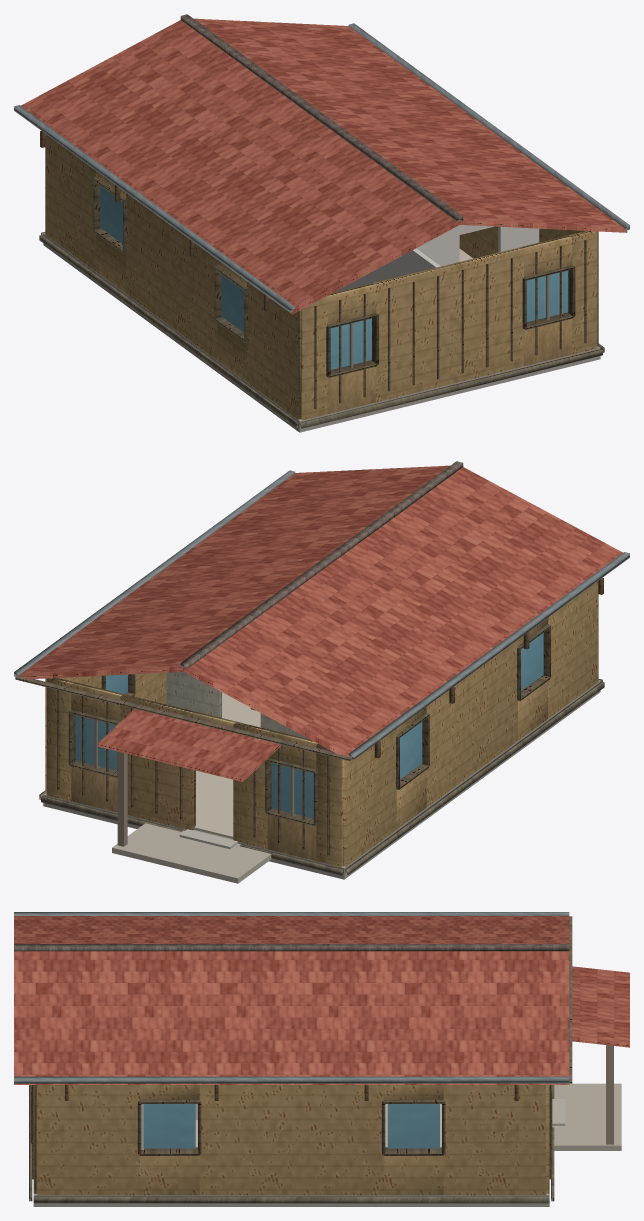
The model's file is HAB_189_Z2_R14_ALBEDO_OTIM_CANDIDATO.gltf.
The picture shows the model from 3 angles, top to bottom: view 1: azimuth 30°, elevation 25°; view 2: azimuth 150°, elevation 25°; view 3: azimuth 270°, elevation 25°; orthographic projection.
Parts seen in each view (by area): view 1: HAB_189_COBERTURA_AGUA_O, HAB_189_COBERTURA_AGUA_L, HAB_189_FACHADA_FUNDOS_PAREDE_1, HAB_189_LATERAL_O_PAREDE_1, HAB_189_LATERAL_O_PAREDE_FINAL, HAB_189_LATERAL_O_PAREDE_0, HAB_189_REV26_ARREMATE_EMBASAMENTO, HAB_189_FUNDACAO, HAB_189_COBERTURA_CUMEEIRA, HAB_189_FACHADA_FUNDOS_PAREDE_0, HAB_189_COBERTURA_CALHA_O, HAB_189_FACHADA_FUNDOS_PAREDE_FINAL (+15 smaller); view 2: HAB_189_COBERTURA_AGUA_O, HAB_189_COBERTURA_AGUA_L, HAB_189_LATERAL_O_PAREDE_1, HAB_189_VARANDA_COBERTURA, HAB_189_LATERAL_O_PAREDE_0, HAB_189_LATERAL_O_PAREDE_FINAL, HAB_189_VARANDA_PLATAFORMA, HAB_189_FACHADA_FRONTAL_PAREDE_2, HAB_189_REV26_ARREMATE_EMBASAMENTO, HAB_189_COBERTURA_CUMEEIRA, HAB_189_PISO_INTERNO, HAB_189_COBERTURA_CALHA_O (+19 smaller); view 3: HAB_189_COBERTURA_AGUA_L, HAB_189_LATERAL_L_PAREDE_1, HAB_189_COBERTURA_AGUA_O, HAB_189_LATERAL_L_PAREDE_FINAL, HAB_189_LATERAL_L_PAREDE_0, HAB_189_REV26_ARREMATE_EMBASAMENTO, HAB_189_COBERTURA_CUMEEIRA, HAB_189_COBERTURA_CALHA_L, HAB_189_VARANDA_COBERTURA, HAB_189_VARANDA_PLATAFORMA, HAB_189_FUNDACAO, HAB_189_LATERAL_L_PEITORIL_0 (+12 smaller).
Part boxes in pixels (box(x1,y1,x2,y2)): HAB_189_COBERTURA_AGUA_O: box(21, 20, 459, 314); HAB_189_COBERTURA_AGUA_L: box(194, 18, 627, 232); HAB_189_FACHADA_FUNDOS_PAREDE_1: box(373, 247, 523, 402); HAB_189_LATERAL_O_PAREDE_1: box(126, 193, 217, 360); HAB_189_LATERAL_O_PAREDE_FINAL: box(247, 282, 300, 419); HAB_189_LATERAL_O_PAREDE_0: box(45, 134, 95, 271); HAB_189_REV26_ARREMATE_EMBASAMENTO: box(39, 232, 604, 428); HAB_189_FUNDACAO: box(43, 233, 600, 432); HAB_189_COBERTURA_CUMEEIRA: box(180, 14, 463, 221); HAB_189_FACHADA_FUNDOS_PAREDE_0: box(301, 296, 327, 420); HAB_189_COBERTURA_CALHA_O: box(14, 105, 295, 312); HAB_189_FACHADA_FUNDOS_PAREDE_FINAL: box(569, 231, 597, 354); HAB_189_COBERTURA_AGUA_O: box(184, 467, 622, 761); HAB_189_COBERTURA_AGUA_L: box(17, 465, 449, 679); HAB_189_LATERAL_O_PAREDE_1: box(426, 640, 517, 807); HAB_189_VARANDA_COBERTURA: box(98, 708, 281, 781); HAB_189_LATERAL_O_PAREDE_0: box(343, 729, 396, 866); HAB_189_LATERAL_O_PAREDE_FINAL: box(548, 581, 598, 718); HAB_189_VARANDA_PLATAFORMA: box(112, 823, 271, 883); HAB_189_FACHADA_FRONTAL_PAREDE_2: box(120, 694, 195, 830); HAB_189_REV26_ARREMATE_EMBASAMENTO: box(39, 679, 604, 875); HAB_189_COBERTURA_CUMEEIRA: box(180, 461, 463, 669); HAB_189_PISO_INTERNO: box(194, 692, 260, 838); HAB_189_COBERTURA_CALHA_O: box(348, 552, 629, 759); HAB_189_COBERTURA_AGUA_L: box(14, 951, 569, 1084); HAB_189_LATERAL_L_PAREDE_1: box(199, 1085, 383, 1195); HAB_189_COBERTURA_AGUA_O: box(14, 916, 569, 943); HAB_189_LATERAL_L_PAREDE_FINAL: box(37, 1085, 139, 1195); HAB_189_LATERAL_L_PAREDE_0: box(443, 1085, 545, 1195); HAB_189_REV26_ARREMATE_EMBASAMENTO: box(29, 1085, 554, 1203); HAB_189_COBERTURA_CUMEEIRA: box(14, 944, 569, 951); HAB_189_COBERTURA_CALHA_L: box(14, 1076, 569, 1083); HAB_189_VARANDA_COBERTURA: box(572, 966, 629, 1047); HAB_189_VARANDA_PLATAFORMA: box(552, 1083, 621, 1150); HAB_189_FUNDACAO: box(33, 1193, 549, 1206); HAB_189_LATERAL_L_PEITORIL_0: box(383, 1156, 443, 1195).
Size of the model in its own units: 8.09 by 4.23 by 12.6.
12 materials, 12 textured.
